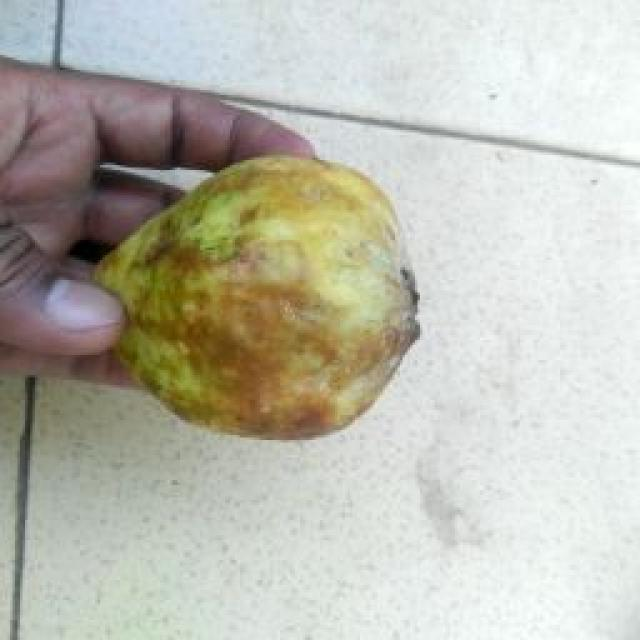Bad_Guava: (96, 156, 418, 437)
